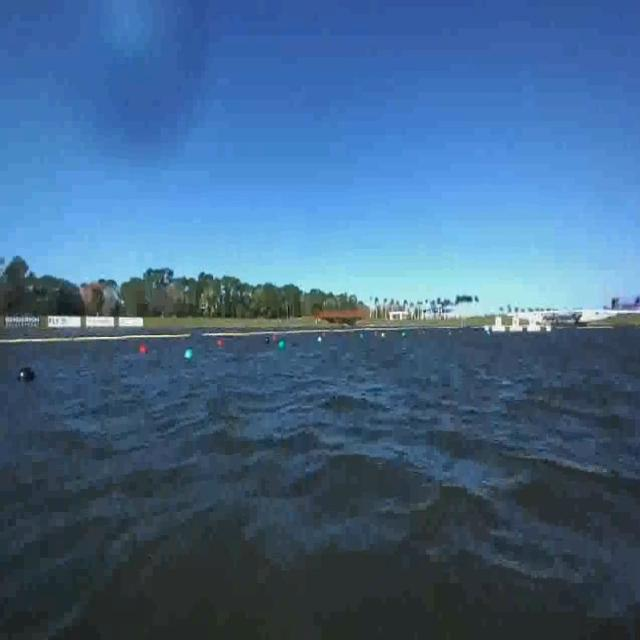black-buoy: (19, 368, 38, 383)
green-buoy: (184, 348, 193, 362), (279, 341, 286, 352)
red-buoy: (137, 337, 153, 362)
